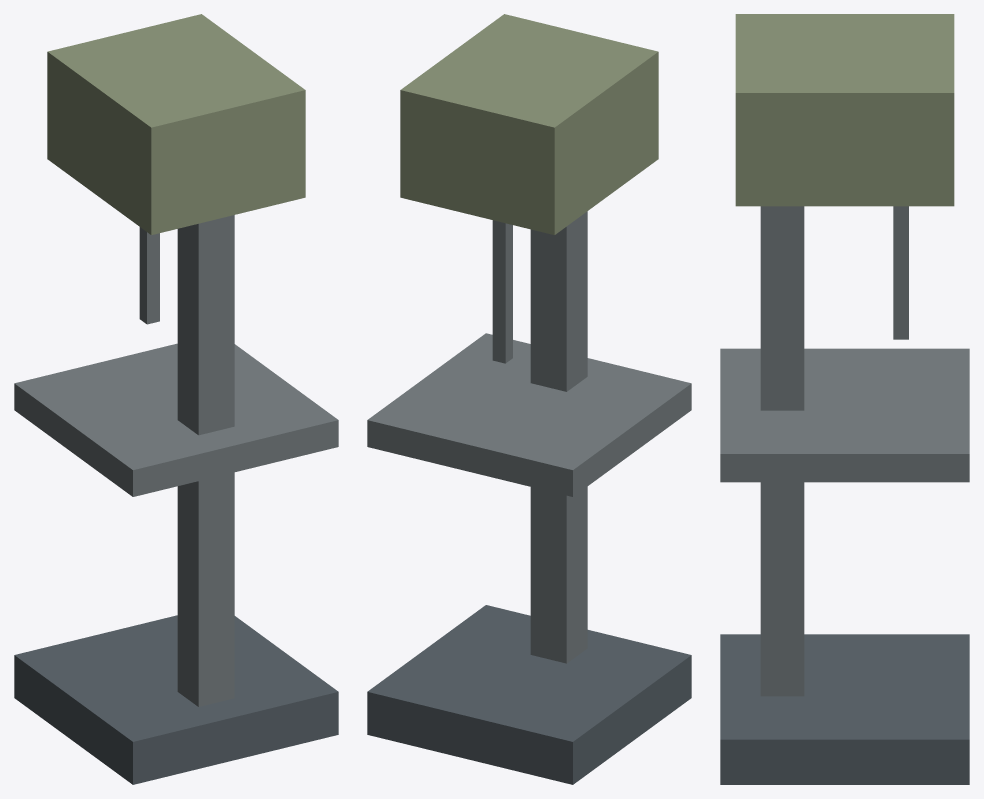
The model's file is drill_press.glb.
3 renders of one model, left to right at view 1: azimuth 30°, elevation 25°; view 2: azimuth 150°, elevation 25°; view 3: azimuth 270°, elevation 25°, orthographic. The views are drawn at different scales.
Parts seen in each view (by area): view 1: body; view 2: body; view 3: body.
Part boxes in pixels (bbox=[...]): body: bbox=[14, 14, 338, 784]; body: bbox=[367, 14, 691, 784]; body: bbox=[720, 14, 969, 784].
Bounding box in the file's own units: 0.4 × 1.2 × 0.4.
